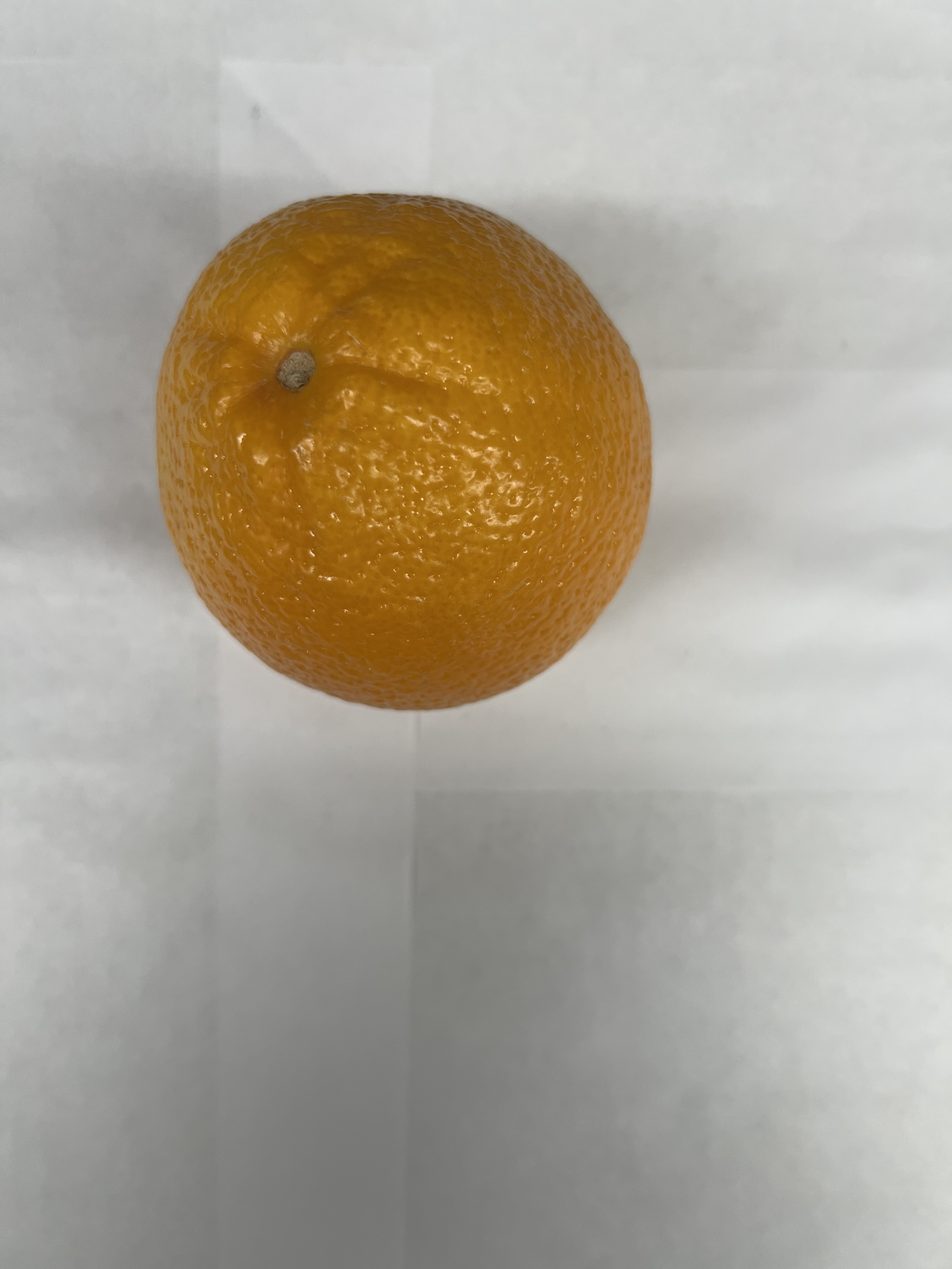produce: (152, 192, 659, 712)
